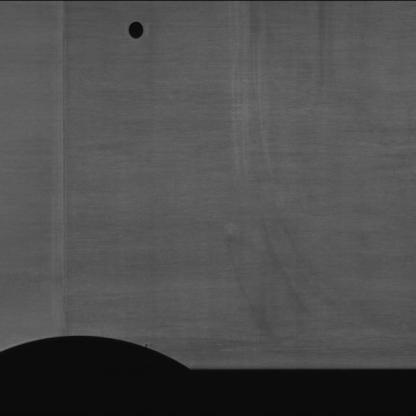crescent_gap: (0, 328, 197, 377)
punching_hole: (114, 15, 151, 49)
welding_line: (50, 0, 87, 348)
